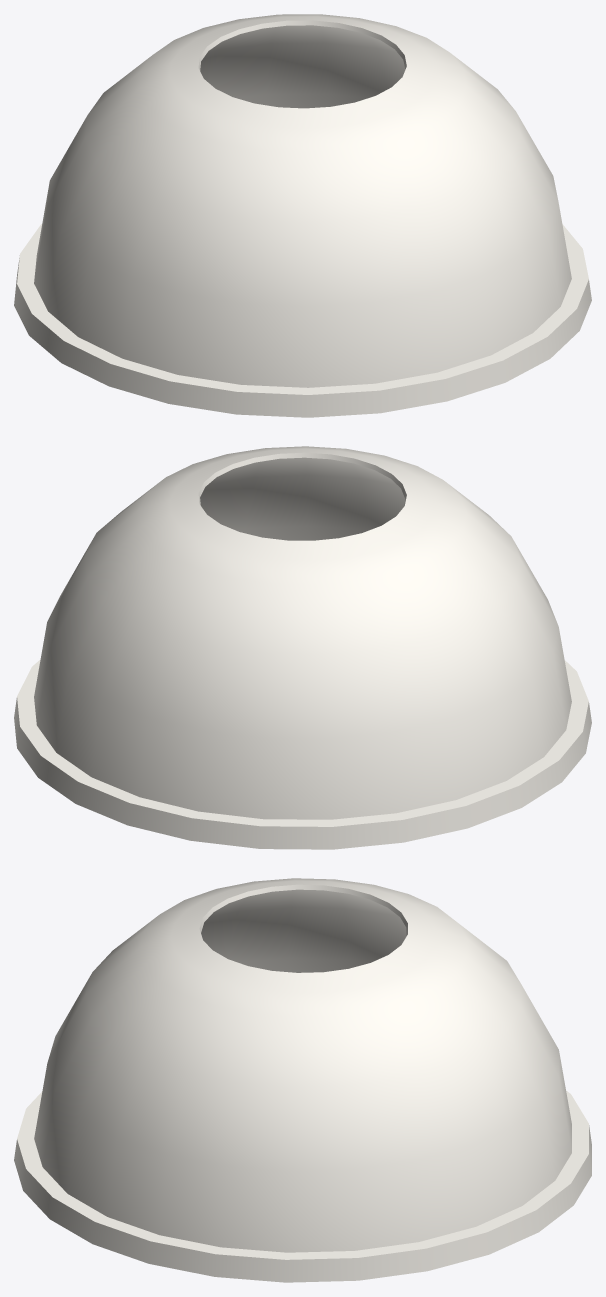
File: Cup L Cover.fbx
3 renders of one model, top to bottom at view 1: azimuth 30°, elevation 25°; view 2: azimuth 150°, elevation 25°; view 3: azimuth 270°, elevation 25°, orthographic.
Parts seen in each view (by area): view 1: Cup L Cover; view 2: Cup L Cover; view 3: Cup L Cover.
Part boxes in pixels (x1,y1,x2,y2): Cup L Cover: (14, 14, 591, 417); Cup L Cover: (14, 446, 591, 849); Cup L Cover: (14, 878, 591, 1282).
Size of the model in its own units: 0.8671 by 0.3834 by 0.8654.
